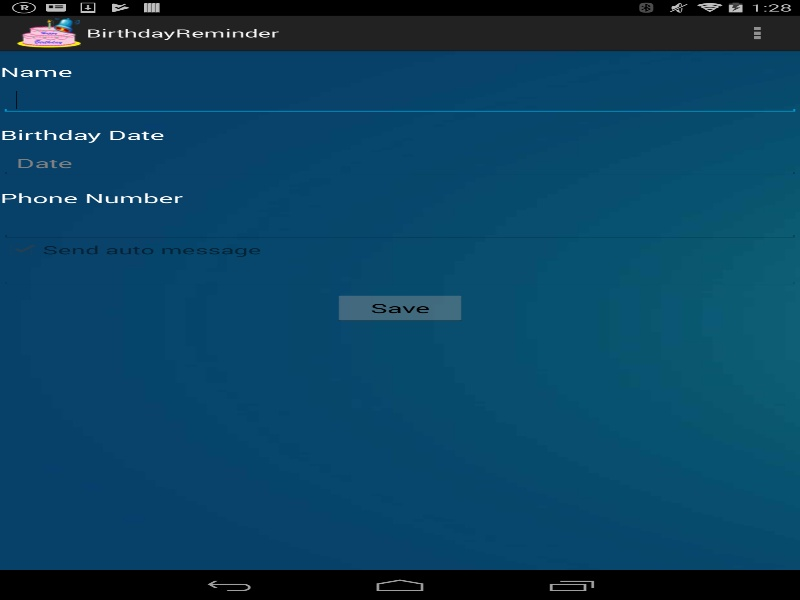Button: (333, 293, 466, 323), (714, 15, 800, 50)
Input: (0, 86, 800, 113), (0, 213, 800, 240), (0, 150, 800, 176), (0, 260, 800, 286)
